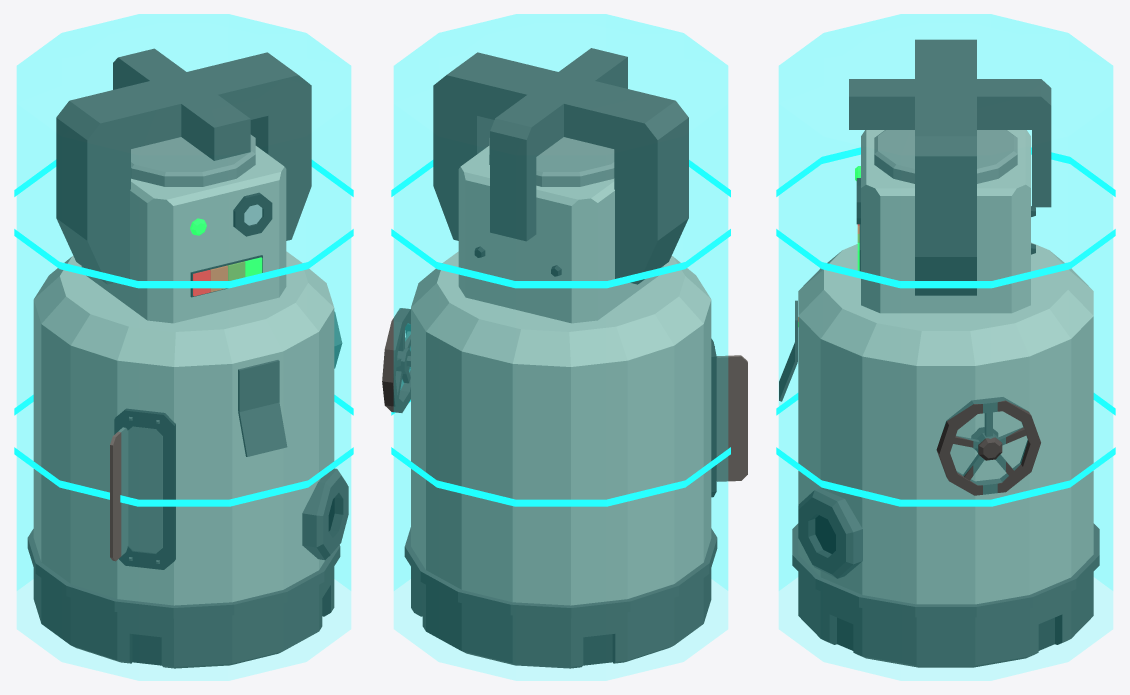
The model's file is canister_default.glb.
3 views of the same model, side by side, from view 1: azimuth 30°, elevation 25°; view 2: azimuth 150°, elevation 25°; view 3: azimuth 270°, elevation 25° (orthographic).
Visible parts, largest first — view 1: Canister_Shield, Canister_Body, Canister_ShieldBands, Canister_TankDoor, Canister_TankDoorOpen, Canister_CellHatchOpen, Canister_CellHatch; view 2: Canister_Shield, Canister_Body, Canister_ShieldBands, Canister_TankDoorOpen, Canister_ValveWheel; view 3: Canister_Shield, Canister_Body, Canister_ShieldBands, Canister_ValveWheel.
Boxes of the visible parts, left/top/right/bottom form: Canister_Shield: left=17, top=14, right=350, bottom=680; Canister_Body: left=27, top=48, right=348, bottom=668; Canister_ShieldBands: left=14, top=160, right=353, bottom=506; Canister_TankDoor: left=128, top=426, right=162, bottom=553; Canister_TankDoorOpen: left=110, top=427, right=128, bottom=561; Canister_CellHatchOpen: left=238, top=402, right=287, bottom=456; Canister_CellHatch: left=238, top=360, right=279, bottom=412; Canister_Shield: left=394, top=14, right=727, bottom=680; Canister_Body: left=404, top=48, right=717, bottom=668; Canister_ShieldBands: left=391, top=160, right=730, bottom=506; Canister_TankDoorOpen: left=716, top=355, right=747, bottom=481; Canister_ValveWheel: left=382, top=308, right=410, bottom=412; Canister_Shield: left=779, top=14, right=1112, bottom=680; Canister_Body: left=792, top=39, right=1099, bottom=667; Canister_ShieldBands: left=776, top=147, right=1115, bottom=506; Canister_ValveWheel: left=936, top=397, right=1040, bottom=495.
Size of the model in its own units: 0.5166 by 0.8887 by 0.5028.
